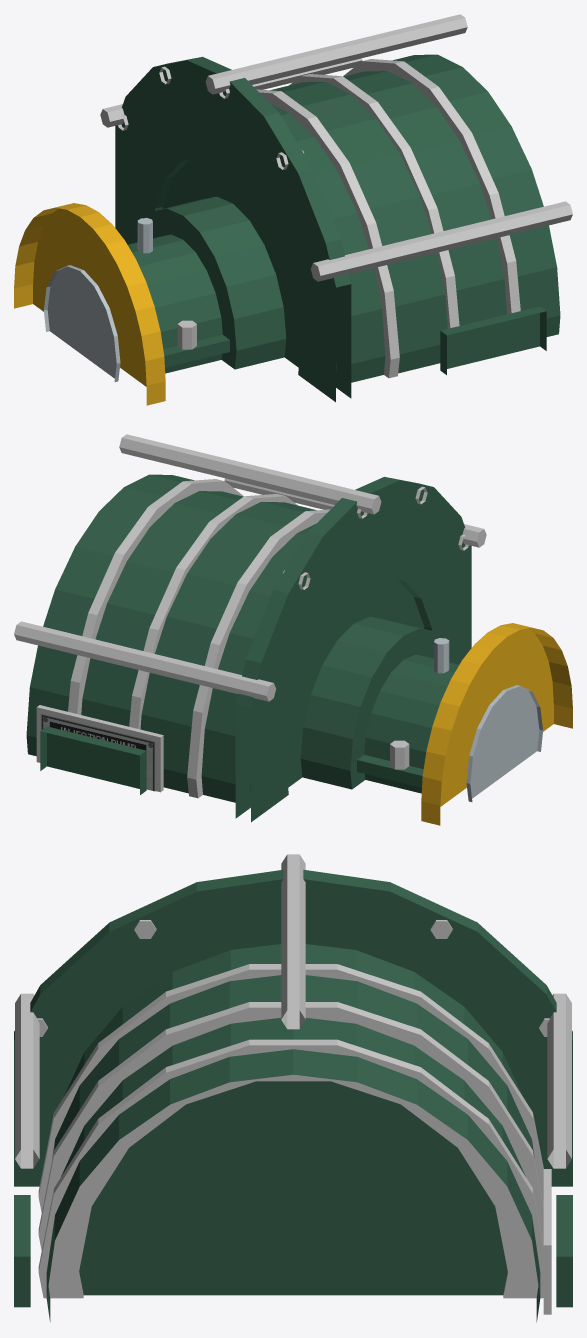
File: cell_53.obj
3 views of the same model, one above another, from view 1: azimuth 30°, elevation 25°; view 2: azimuth 150°, elevation 25°; view 3: azimuth 270°, elevation 25° (orthographic). The views are drawn at different scales.
Size of the model in its own units: 1 by 0.6191 by 1.
